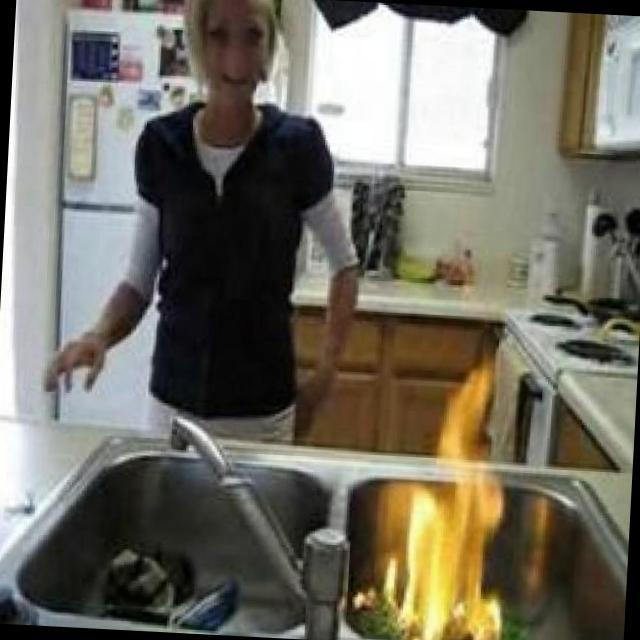Fire: (381, 351, 516, 640)
